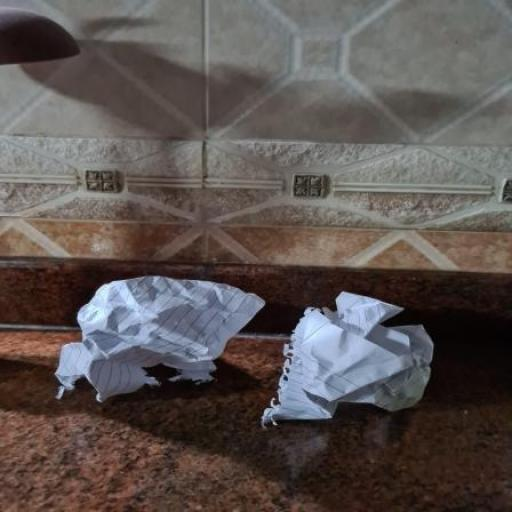paper: (260, 241, 478, 465), (45, 234, 265, 442)
